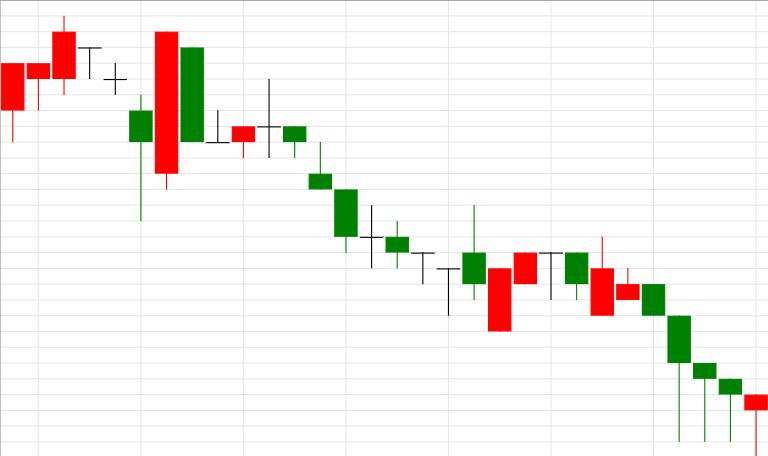inverse_hammer_rise: (258, 79, 486, 316)
